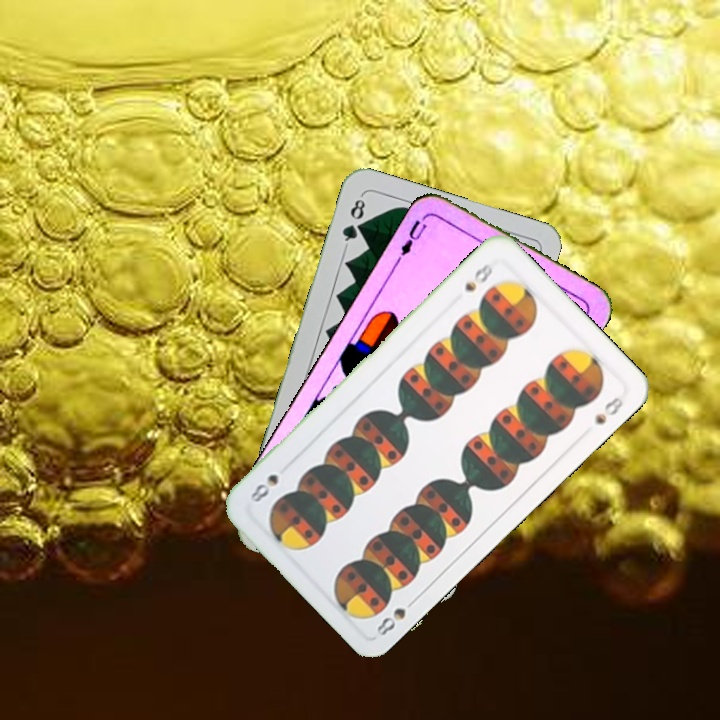EU: (393, 211, 431, 264)
G8: (338, 192, 368, 249)
S8: (372, 593, 421, 639), (460, 259, 496, 294)
